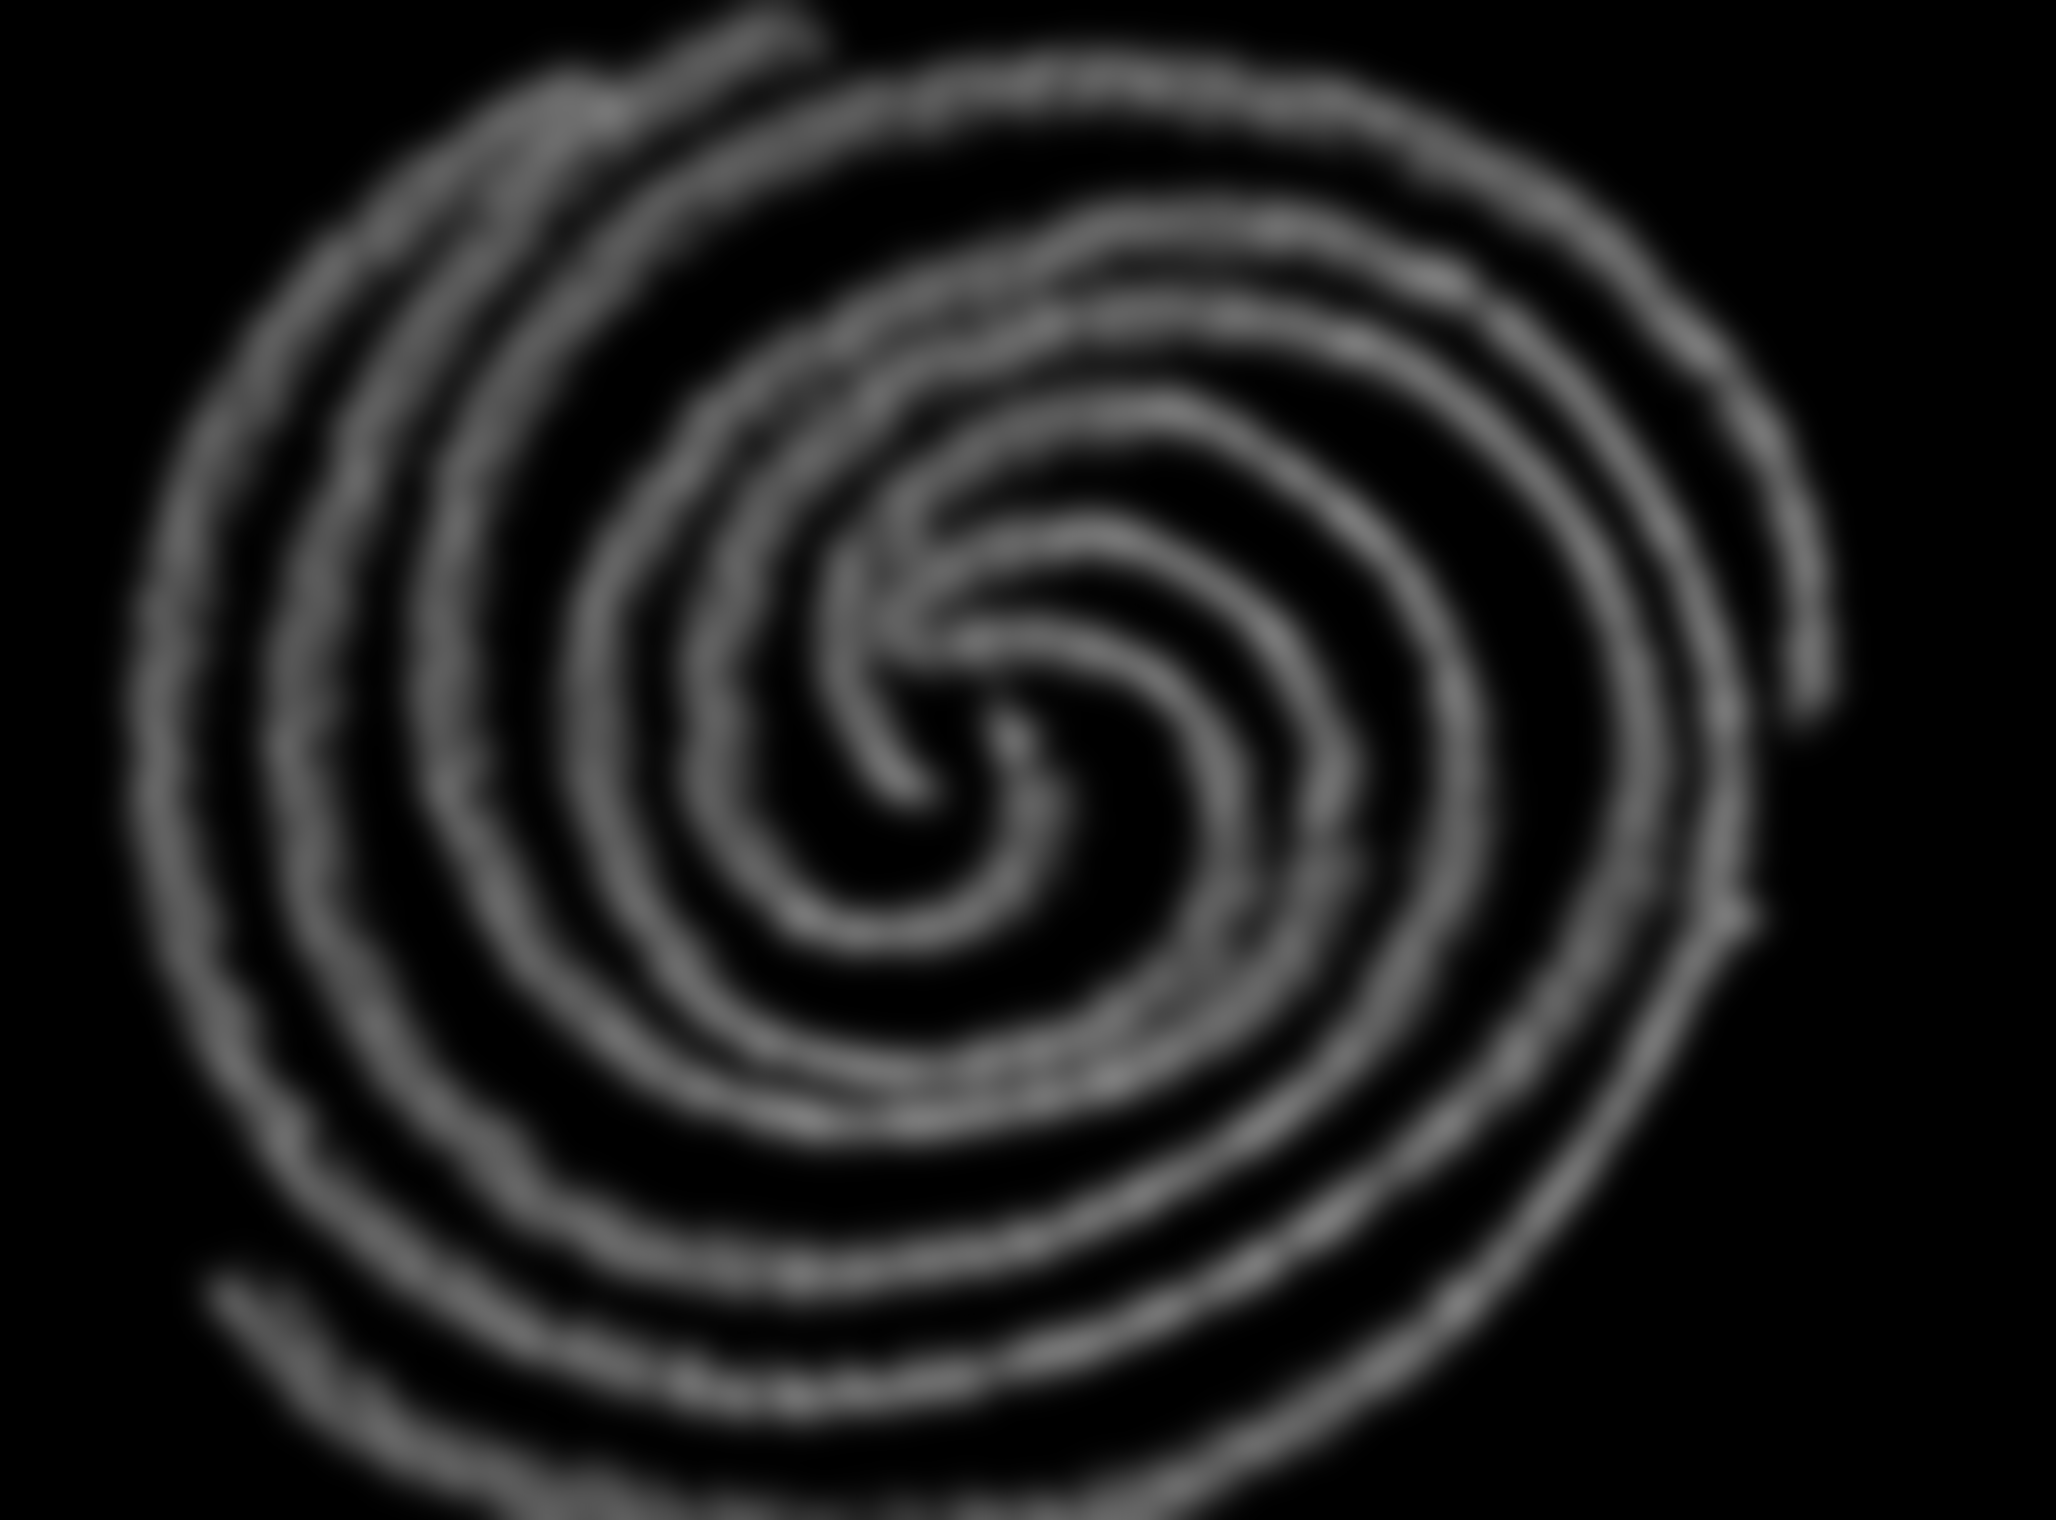vortex: (80, 14, 1903, 1506)
